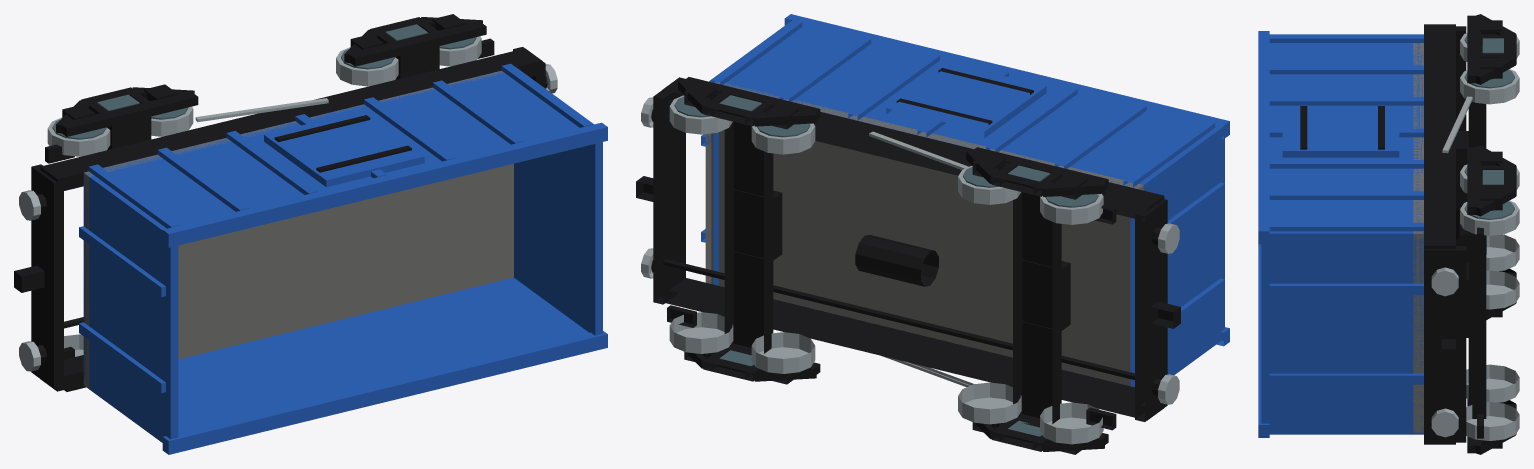
The model's file is empty.glb.
The picture shows the model from 3 angles, left to right: view 1: azimuth 30°, elevation 25°; view 2: azimuth 150°, elevation 25°; view 3: azimuth 270°, elevation 25°; orthographic projection. The views are drawn at different scales.
Parts seen in each view (by area): view 1: empty_body, empty_solebar1, empty_bogie-1, empty_bogie1, empty_side1_-0.75_2.35, empty_headstock-1, empty_buffers-1, empty_brake_lever1, empty_solebar-1, empty_side1_-0.70_2.55, empty_side1_-0.70_3.65; view 2: empty_body, empty_bogie1, empty_bogie-1, empty_solebar-1, empty_side1_-0.75_2.35, empty_headstock1, empty_headstock-1, empty_solebar1, empty_brake_cylinder, empty_brake_pipe, empty_buffers-1, empty_buffers1 (+3 smaller); view 3: empty_body, empty_bogie1, empty_bogie-1, empty_solebar1, empty_headstock1, empty_side1_-0.75_2.35, empty_buffers1, empty_pivot-1, empty_headstock-1, empty_brake_lever1, empty_brake_cylinder, empty_side1_-0.70_3.65 (+1 smaller).
Part boxes in pixels (x1,y1,x2,y2): empty_body: (79, 63, 607, 454); empty_solebar1: (40, 48, 542, 190); empty_bogie-1: (47, 84, 198, 391); empty_bogie1: (336, 14, 486, 86); empty_side1_-0.75_2.35: (264, 111, 424, 187); empty_headstock-1: (31, 164, 63, 388); empty_buffers-1: (14, 190, 47, 371); empty_brake_lever1: (195, 98, 328, 122); empty_solebar-1: (40, 355, 83, 391); empty_side1_-0.70_2.55: (274, 115, 370, 142); empty_side1_-0.70_3.65: (316, 145, 411, 172); empty_body: (701, 14, 1229, 387); empty_bogie1: (669, 77, 820, 384); empty_bogie-1: (958, 147, 1108, 454); empty_solebar-1: (662, 278, 1163, 420); empty_side1_-0.75_2.35: (886, 62, 1046, 138); empty_headstock1: (653, 90, 685, 304); empty_headstock-1: (1135, 199, 1167, 421); empty_solebar1: (662, 77, 1164, 220); empty_brake_cylinder: (855, 235, 938, 286); empty_brake_pipe: (663, 259, 1134, 379); empty_buffers-1: (1150, 223, 1180, 404); empty_buffers1: (636, 97, 663, 278); empty_body: (1258, 31, 1423, 437); empty_bogie1: (1460, 145, 1519, 454); empty_bogie-1: (1460, 14, 1519, 319); empty_solebar1: (1424, 24, 1455, 248); empty_headstock1: (1424, 246, 1466, 442); empty_side1_-0.75_2.35: (1282, 106, 1399, 157); empty_buffers1: (1431, 267, 1458, 437); empty_pivot-1: (1456, 131, 1468, 206); empty_headstock-1: (1456, 26, 1466, 210); empty_brake_lever1: (1442, 96, 1472, 153); empty_brake_cylinder: (1456, 206, 1486, 262); empty_side1_-0.70_3.65: (1300, 106, 1307, 149).
Bounding box in the file's own units: 8.2 × 3.9 × 3.69.
